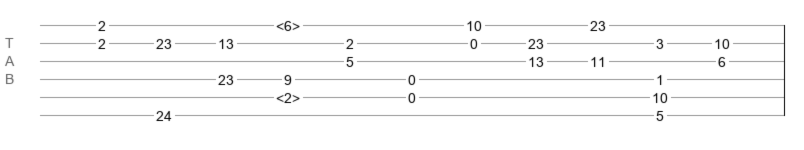0: (408, 90, 416, 100), (408, 72, 416, 82), (470, 36, 478, 46)
1: (656, 72, 664, 82)
10: (466, 18, 482, 28), (652, 90, 668, 100), (714, 36, 730, 46)
11: (590, 54, 606, 64)
13: (218, 36, 234, 46), (528, 54, 544, 64)
2: (98, 36, 106, 46), (98, 18, 106, 28), (346, 36, 354, 46)
23: (156, 36, 172, 46), (218, 72, 234, 82), (528, 36, 544, 46), (590, 18, 606, 28)
24: (156, 108, 172, 118)
3: (656, 36, 664, 46)
5: (346, 54, 354, 64), (656, 108, 664, 118)
6: (718, 54, 726, 64)
9: (284, 72, 292, 82)
harmonic: (276, 90, 300, 100), (276, 18, 300, 28)
